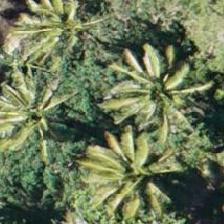coconut_tree: (87, 128, 177, 218), (124, 43, 214, 133), (26, 0, 116, 67), (0, 63, 60, 153)
